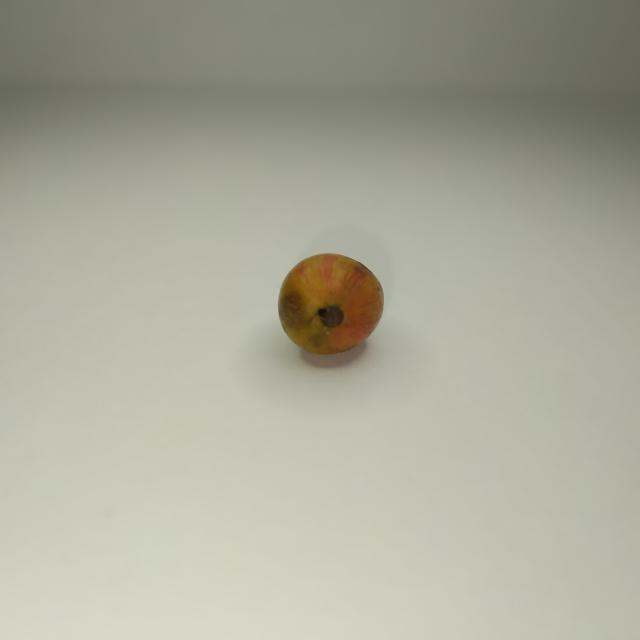Infectado: (278, 253, 383, 357)
